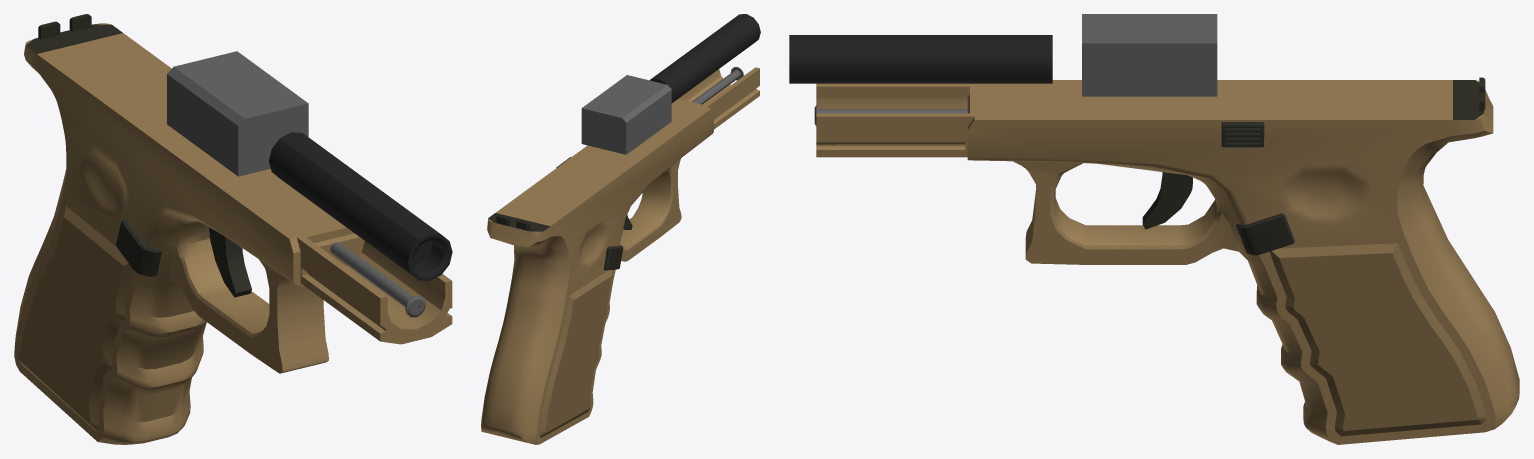
Rendered from GlockBody.glb.
3 renders of one model, left to right at view 1: azimuth 30°, elevation 25°; view 2: azimuth 150°, elevation 25°; view 3: azimuth 270°, elevation 25°, orthographic. The views are drawn at different scales.
Visible parts, largest first — view 1: Body; view 2: Body; view 3: Body.
Part boxes in pixels (bbox=[...]): Body: bbox=[14, 14, 452, 444]; Body: bbox=[481, 14, 760, 444]; Body: bbox=[789, 14, 1519, 444].
Size of the model in its own units: 0.6827 by 2.82 by 4.67.
